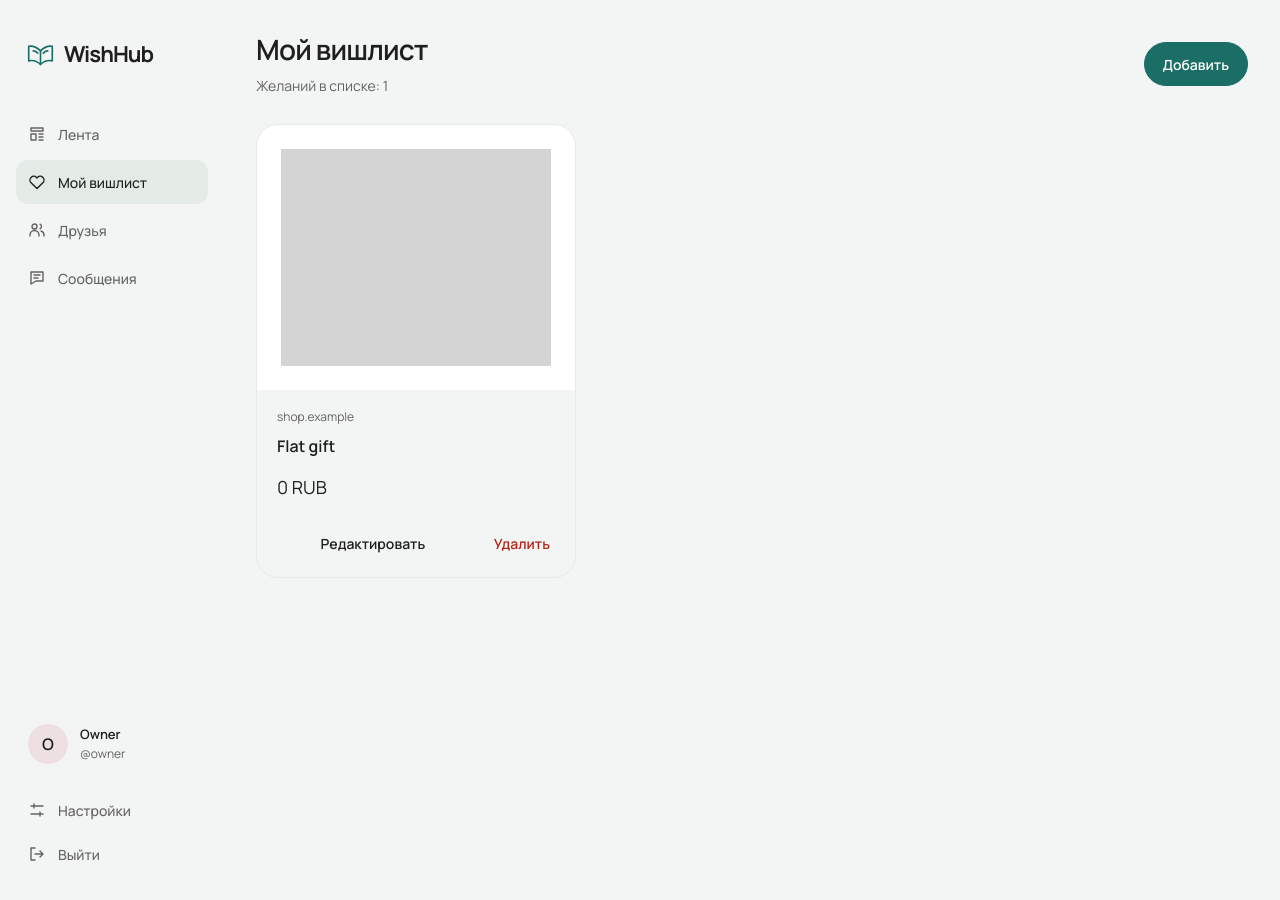
Test: WishlistPage › opens the editable card with every existing field and no metadata request
Click the button "Редактировать": (373, 543) top-left (269, 521), bottom-right (477, 565)
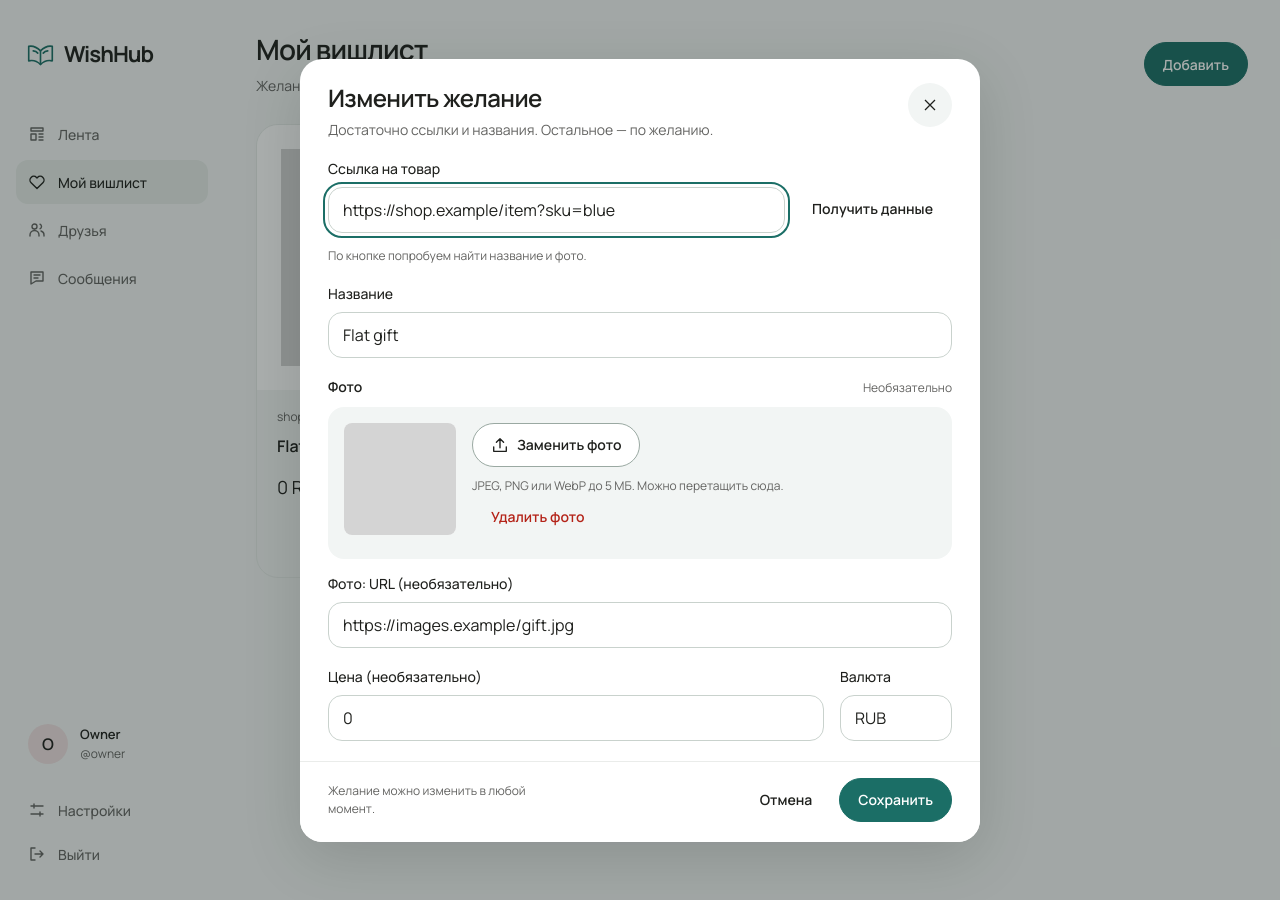
Expected: the dialog is shown, top-left (300, 58), bottom-right (980, 842)
Expected: the field labelled "Ссылка на товар" holds "https://shop.example/item?sku=blue", top-left (328, 186), bottom-right (785, 232)
Expected: the field labelled "Название" holds "Flat gift", top-left (328, 312), bottom-right (952, 358)
